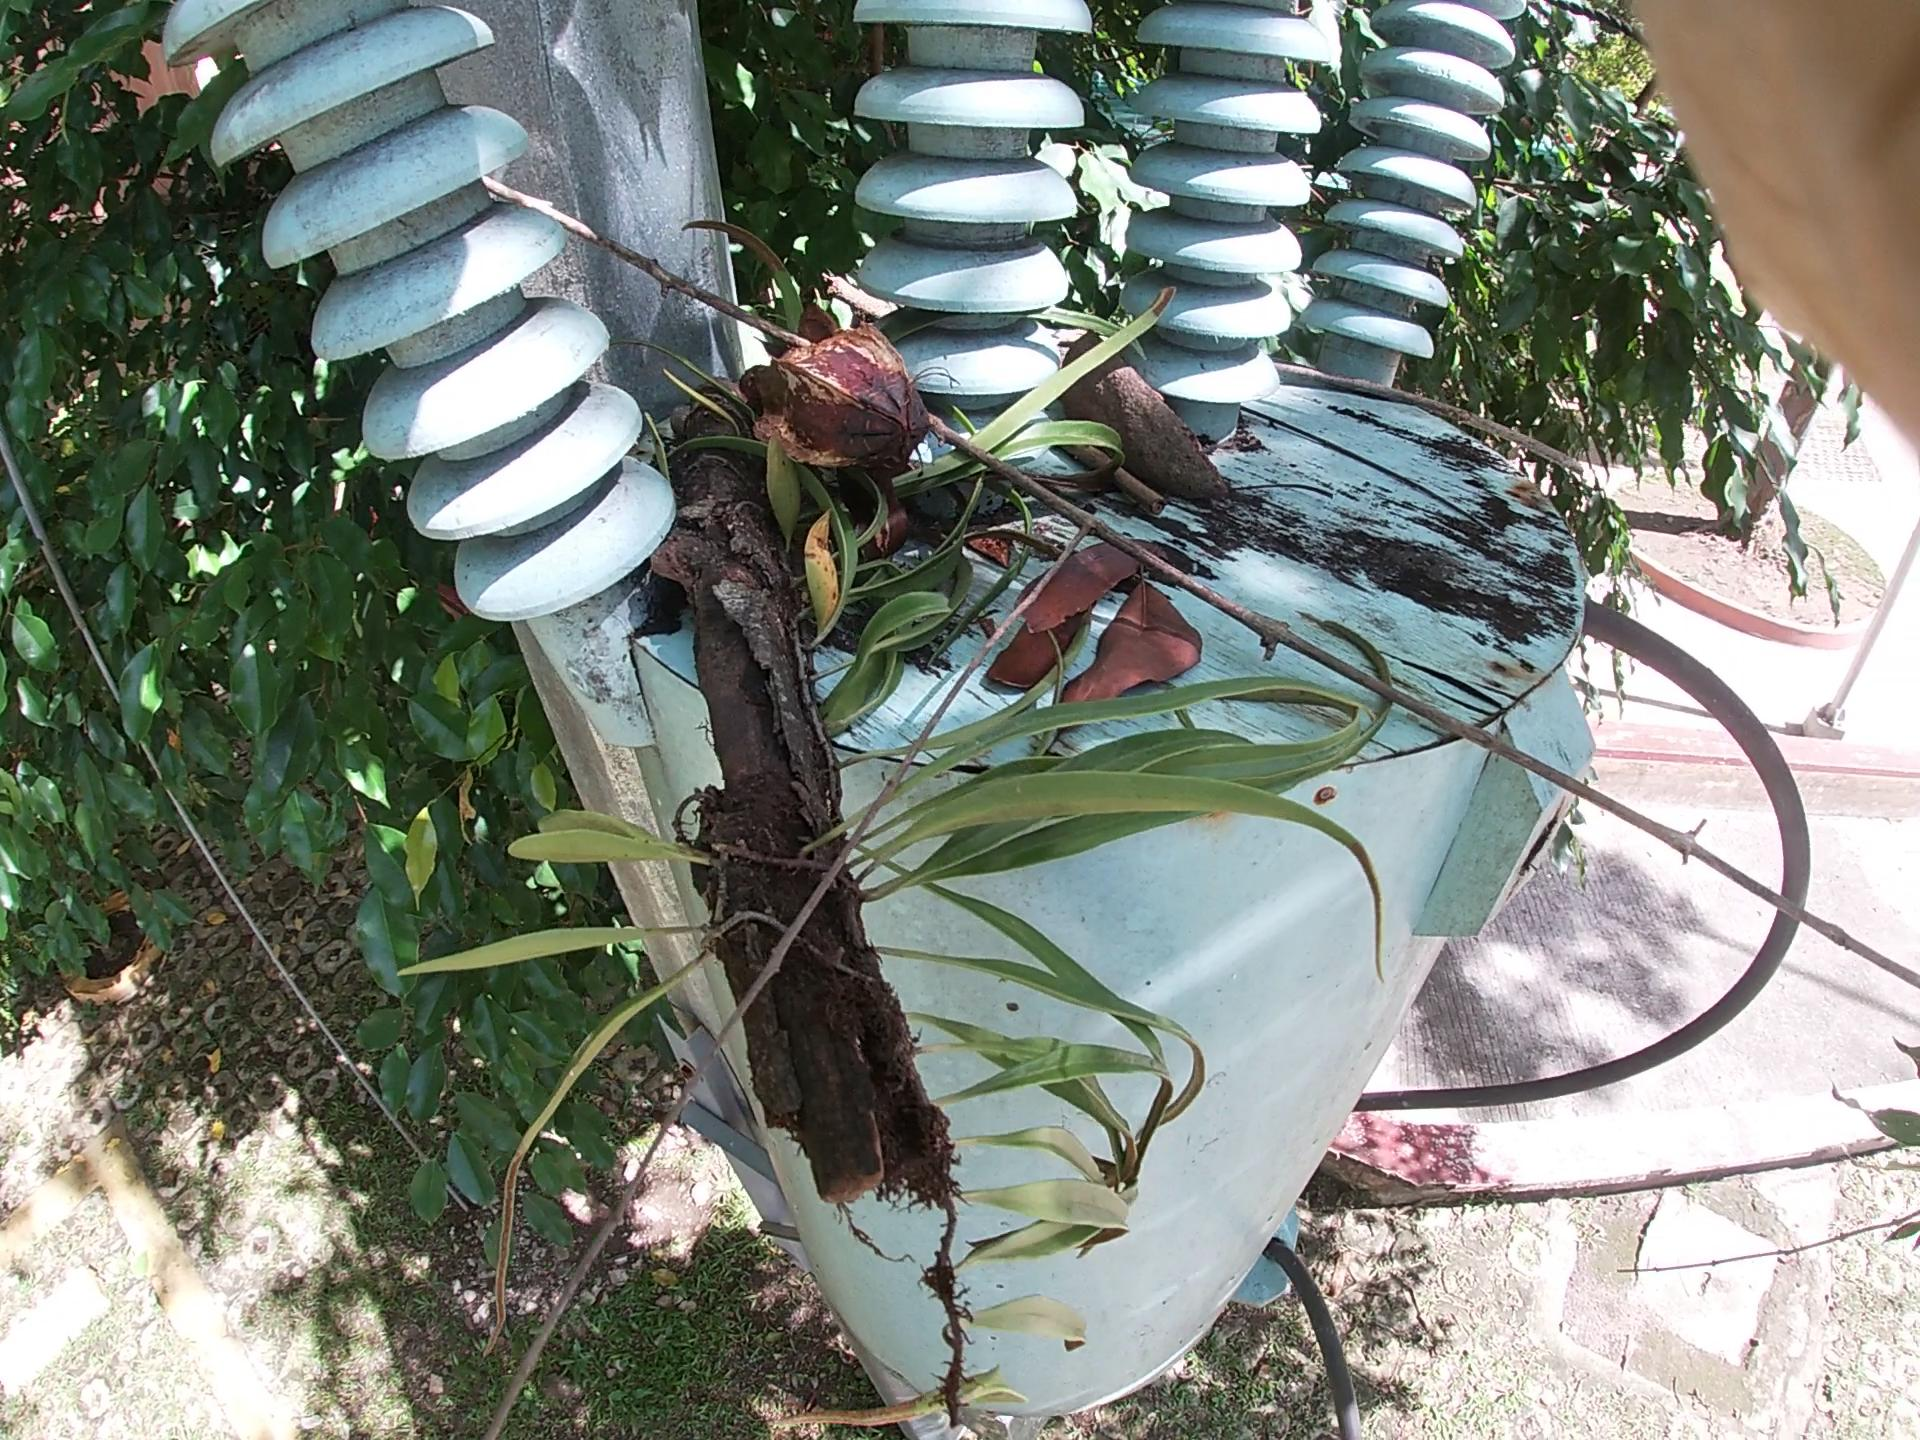branch with leaves: (432, 172, 1185, 1122)
leaf: (999, 535, 1212, 809)
mahogany fruit: (1034, 303, 1294, 569), (735, 303, 948, 526)
tree branch: (505, 185, 1730, 883), (1019, 313, 1297, 585)
